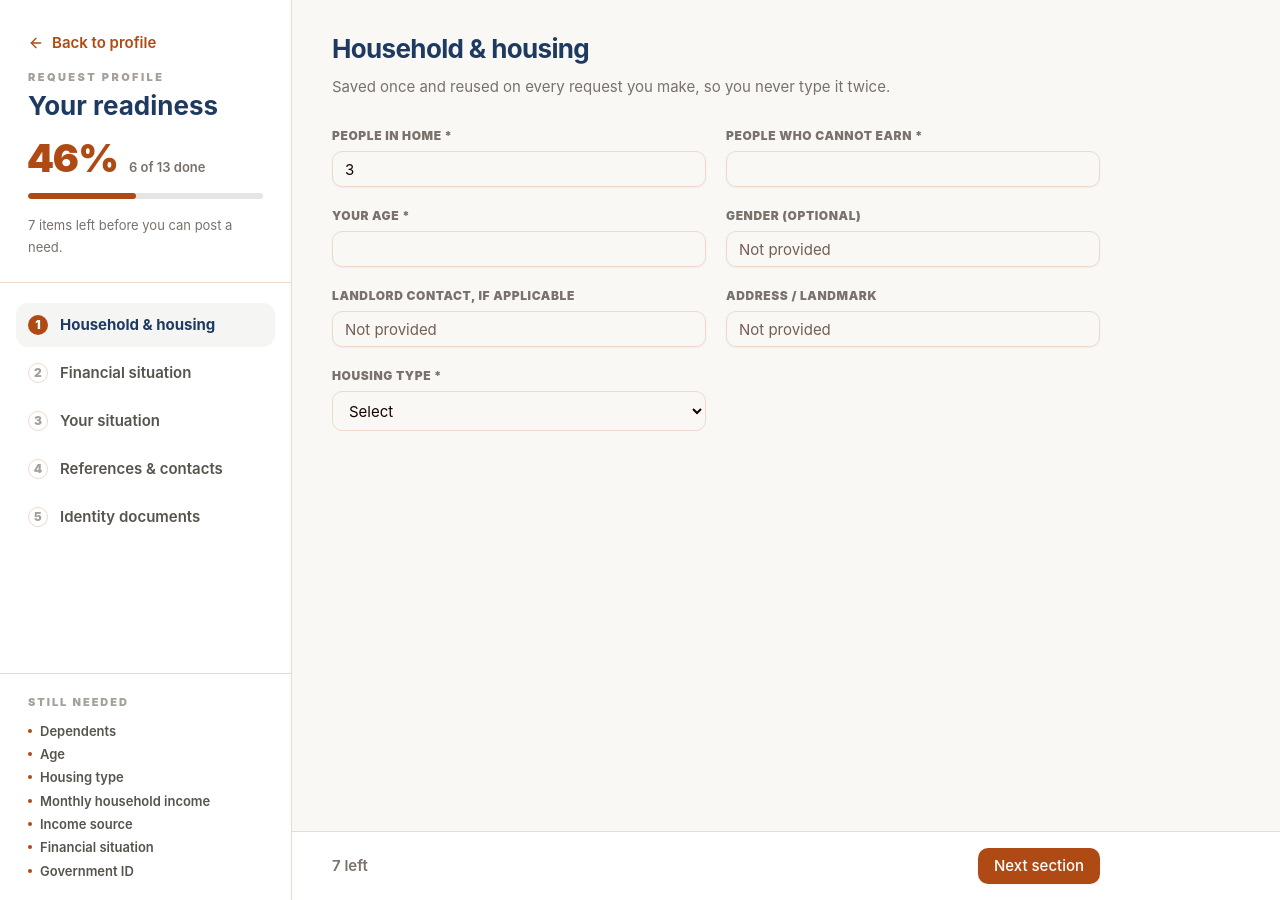
Test case: autosaves quietly after the donee stops typing
Replace the text in the number field labelled "People in home *" with "6" at point(519, 169), box [332,151,706,187]
Wait 1600 ms
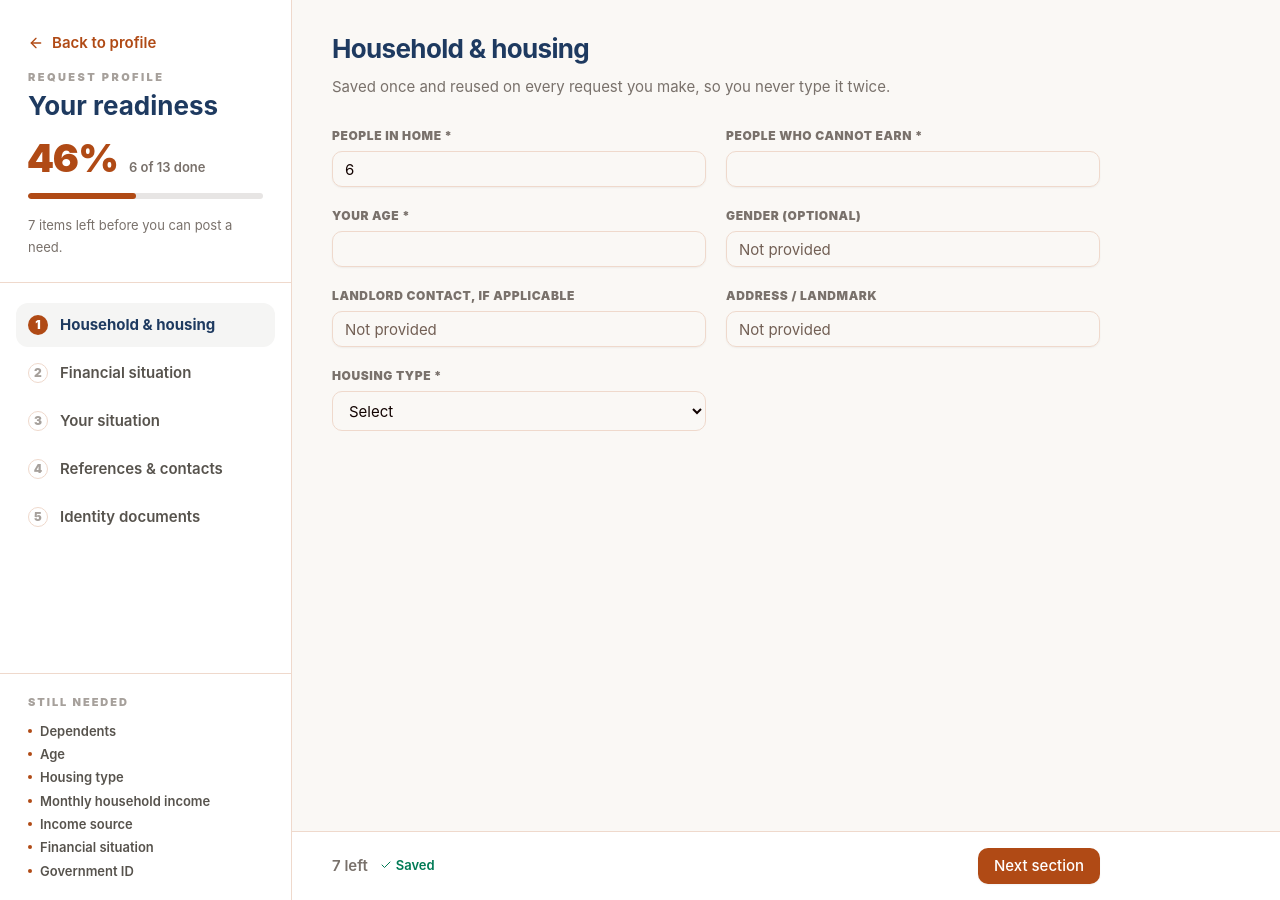
Check: the text "Saved" is shown, box [380,856,435,874]
